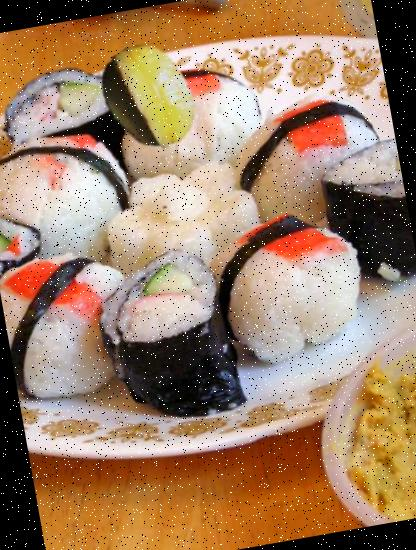Carambula: (85, 34, 212, 161)
